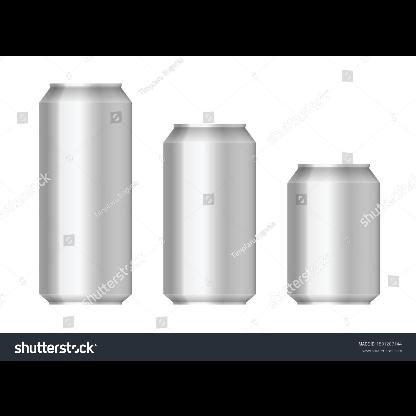Tin_Can: (35, 78, 135, 308), (158, 119, 260, 307), (281, 158, 387, 312)
